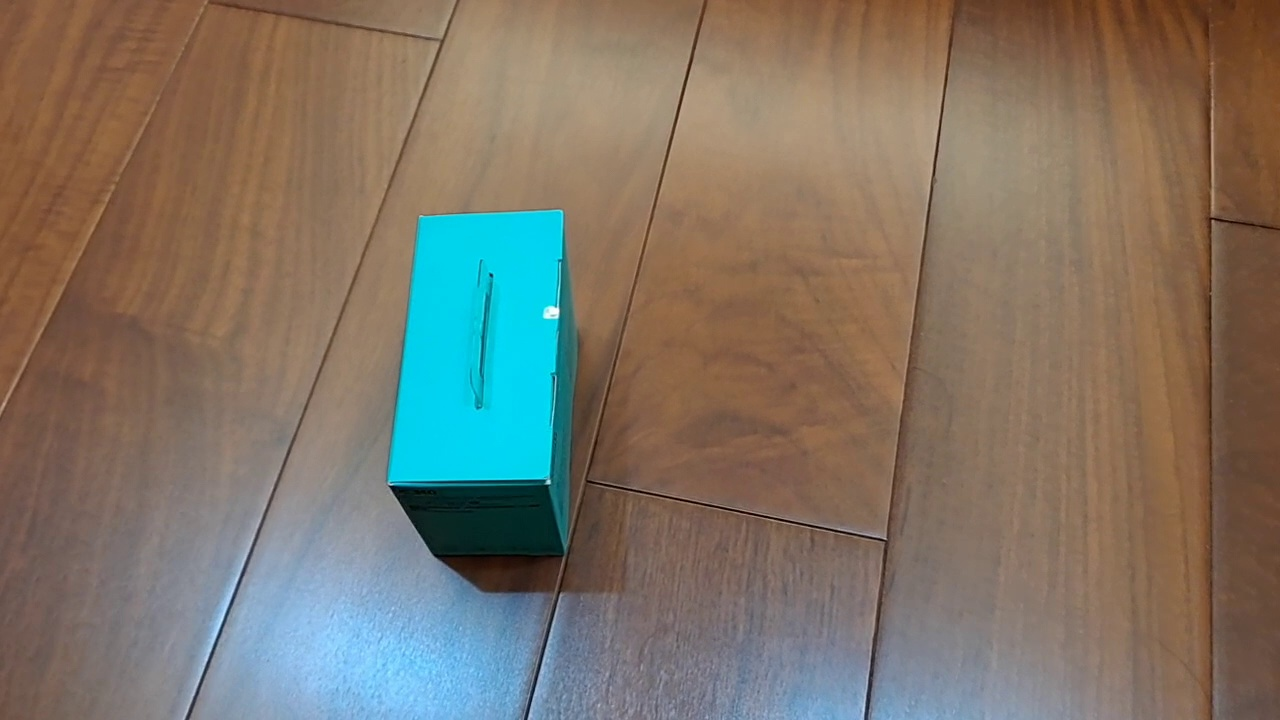webcam: (384, 208, 579, 557)
